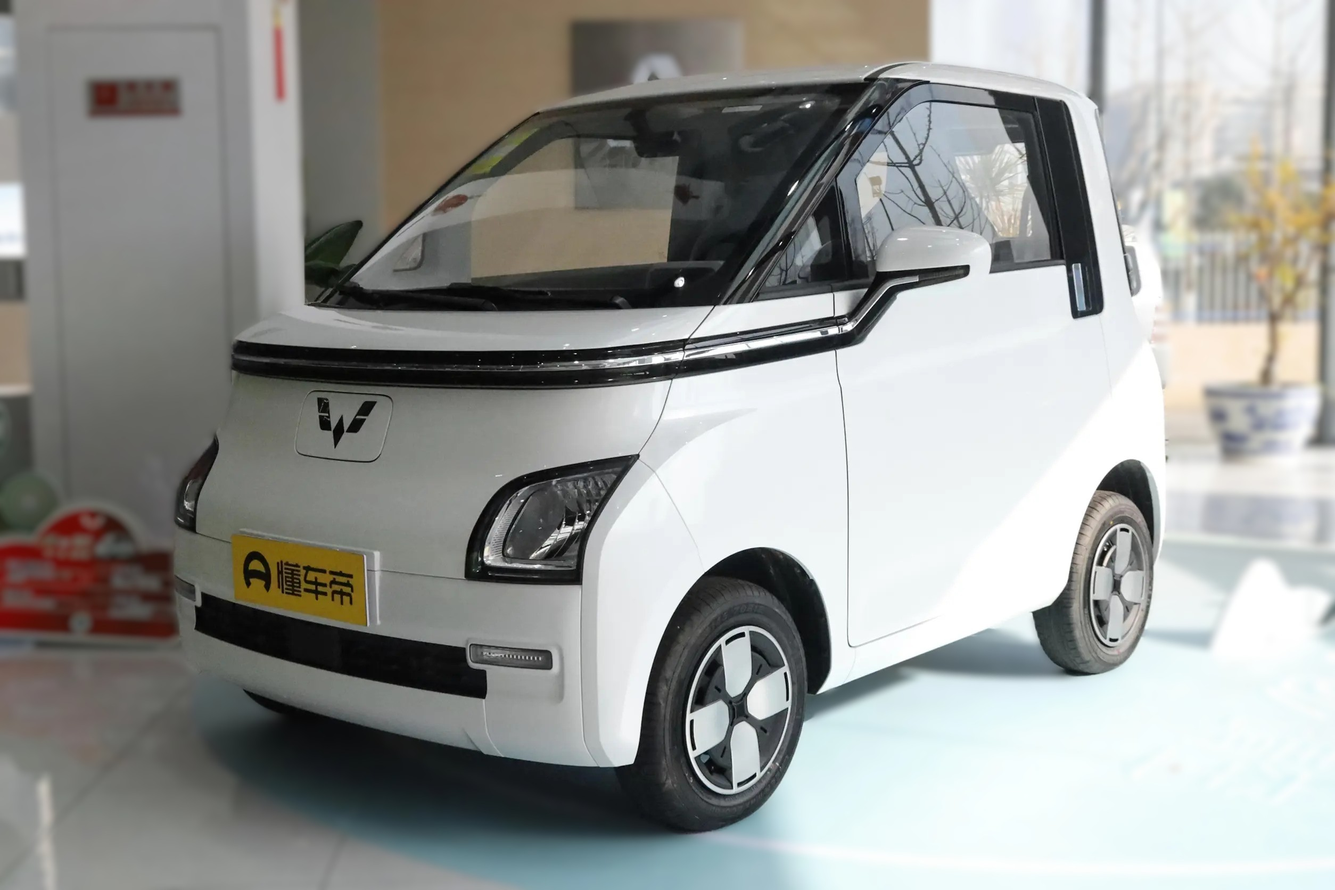SGMW: (317, 397, 376, 448)
